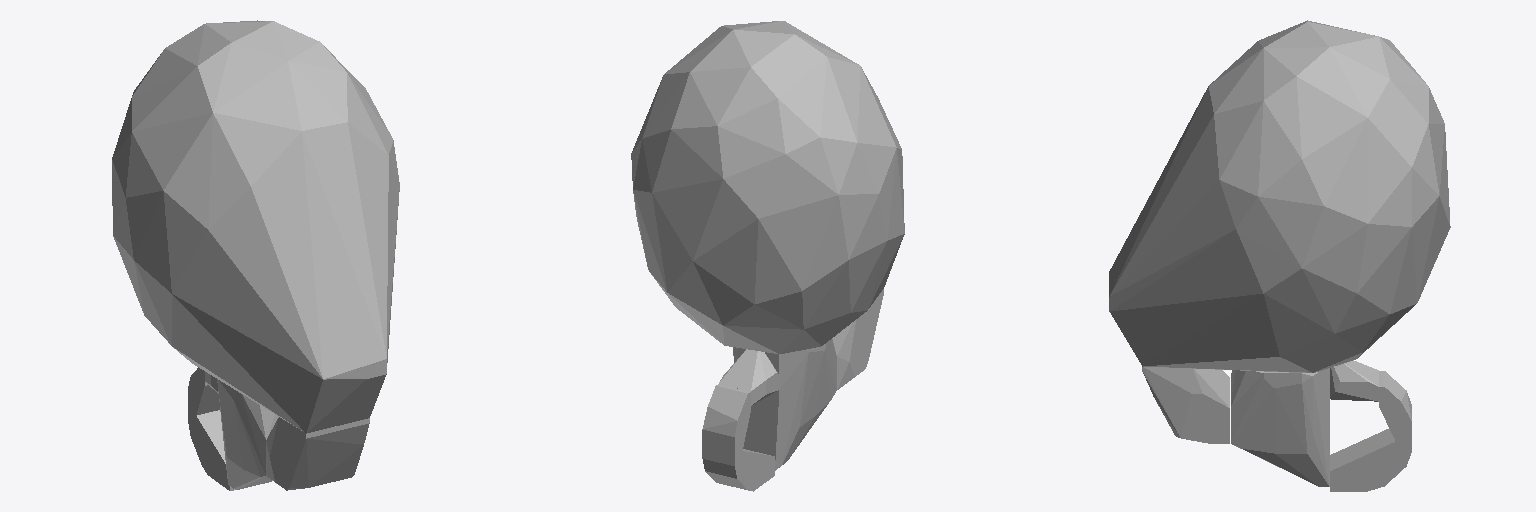
The robot description file, URDF, robot "root":
<robot name="root">
  <link name="link_2f8905ee1f60ab5aa821a9df9523f811_convex_piece_0">
    <inertial>
      <origin rpy="0 0 0" xyz="0 0 0"/>
      <mass value="3.22E-05"/>
      <inertia ixx="7.19E-09" ixy="2.61E-11" ixz="2.00E-11" iyy="6.47E-09" iyz="6.75E-10" izz="4.97E-09"/>
    </inertial>
    <visual>
      <origin rpy="0 0 0" xyz="0 0 0"/>
      <geometry>
        <mesh filename="2f8905ee1f60ab5aa821a9df9523f811_convex_piece_0.obj" scale="1.0000E+00"/>
      </geometry>
      <material name="">
        <color rgba="7.50E-01 7.50E-01 7.50E-01 1"/>
      </material>
    </visual>
    <collision>
      <origin rpy="0 0 0" xyz="0 0 0"/>
      <geometry>
        <mesh filename="2f8905ee1f60ab5aa821a9df9523f811_convex_piece_0.obj" scale="1.0000E+00"/>
      </geometry>
    </collision>
  </link>
  <link name="link_2f8905ee1f60ab5aa821a9df9523f811_convex_piece_1">
    <inertial>
      <origin rpy="0 0 0" xyz="0 0 0"/>
      <mass value="7.37E-07"/>
      <inertia ixx="3.55E-10" ixy="2.79E-12" ixz="3.84E-12" iyy="2.55E-10" iyz="1.53E-10" izz="1.12E-10"/>
    </inertial>
    <visual>
      <origin rpy="0 0 0" xyz="0 0 0"/>
      <geometry>
        <mesh filename="2f8905ee1f60ab5aa821a9df9523f811_convex_piece_1.obj" scale="1.0000E+00"/>
      </geometry>
      <material name="">
        <color rgba="7.50E-01 7.50E-01 7.50E-01 1"/>
      </material>
    </visual>
    <collision>
      <origin rpy="0 0 0" xyz="0 0 0"/>
      <geometry>
        <mesh filename="2f8905ee1f60ab5aa821a9df9523f811_convex_piece_1.obj" scale="1.0000E+00"/>
      </geometry>
    </collision>
  </link>
  <joint name="link_2f8905ee1f60ab5aa821a9df9523f811_convex_piece_1_joint" type="fixed">
    <origin rpy="0 0 0" xyz="0 0 0"/>
    <parent link="link_2f8905ee1f60ab5aa821a9df9523f811_convex_piece_0"/>
    <child link="link_2f8905ee1f60ab5aa821a9df9523f811_convex_piece_1"/>
  </joint>
  <link name="link_2f8905ee1f60ab5aa821a9df9523f811_convex_piece_2">
    <inertial>
      <origin rpy="0 0 0" xyz="0 0 0"/>
      <mass value="1.62E-06"/>
      <inertia ixx="6.86E-10" ixy="-4.93E-14" ixz="-3.10E-12" iyy="6.97E-10" iyz="-5.34E-11" izz="1.73E-11"/>
    </inertial>
    <visual>
      <origin rpy="0 0 0" xyz="0 0 0"/>
      <geometry>
        <mesh filename="2f8905ee1f60ab5aa821a9df9523f811_convex_piece_2.obj" scale="1.0000E+00"/>
      </geometry>
      <material name="">
        <color rgba="7.50E-01 7.50E-01 7.50E-01 1"/>
      </material>
    </visual>
    <collision>
      <origin rpy="0 0 0" xyz="0 0 0"/>
      <geometry>
        <mesh filename="2f8905ee1f60ab5aa821a9df9523f811_convex_piece_2.obj" scale="1.0000E+00"/>
      </geometry>
    </collision>
  </link>
  <joint name="link_2f8905ee1f60ab5aa821a9df9523f811_convex_piece_2_joint" type="fixed">
    <origin rpy="0 0 0" xyz="0 0 0"/>
    <parent link="link_2f8905ee1f60ab5aa821a9df9523f811_convex_piece_1"/>
    <child link="link_2f8905ee1f60ab5aa821a9df9523f811_convex_piece_2"/>
  </joint>
  <link name="link_2f8905ee1f60ab5aa821a9df9523f811_convex_piece_3">
    <inertial>
      <origin rpy="0 0 0" xyz="0 0 0"/>
      <mass value="2.16E-07"/>
      <inertia ixx="2.14E-10" ixy="3.11E-13" ixz="-7.27E-13" iyy="1.83E-10" iyz="-8.31E-11" izz="3.21E-11"/>
    </inertial>
    <visual>
      <origin rpy="0 0 0" xyz="0 0 0"/>
      <geometry>
        <mesh filename="2f8905ee1f60ab5aa821a9df9523f811_convex_piece_3.obj" scale="1.0000E+00"/>
      </geometry>
      <material name="">
        <color rgba="7.50E-01 7.50E-01 7.50E-01 1"/>
      </material>
    </visual>
    <collision>
      <origin rpy="0 0 0" xyz="0 0 0"/>
      <geometry>
        <mesh filename="2f8905ee1f60ab5aa821a9df9523f811_convex_piece_3.obj" scale="1.0000E+00"/>
      </geometry>
    </collision>
  </link>
  <joint name="link_2f8905ee1f60ab5aa821a9df9523f811_convex_piece_3_joint" type="fixed">
    <origin rpy="0 0 0" xyz="0 0 0"/>
    <parent link="link_2f8905ee1f60ab5aa821a9df9523f811_convex_piece_2"/>
    <child link="link_2f8905ee1f60ab5aa821a9df9523f811_convex_piece_3"/>
  </joint>
  <link name="link_2f8905ee1f60ab5aa821a9df9523f811_convex_piece_4">
    <inertial>
      <origin rpy="0 0 0" xyz="0 0 0"/>
      <mass value="1.18E-07"/>
      <inertia ixx="4.13E-11" ixy="-1.54E-13" ixz="3.60E-13" iyy="3.20E-11" iyz="-2.26E-11" izz="9.89E-12"/>
    </inertial>
    <visual>
      <origin rpy="0 0 0" xyz="0 0 0"/>
      <geometry>
        <mesh filename="2f8905ee1f60ab5aa821a9df9523f811_convex_piece_4.obj" scale="1.0000E+00"/>
      </geometry>
      <material name="">
        <color rgba="7.50E-01 7.50E-01 7.50E-01 1"/>
      </material>
    </visual>
    <collision>
      <origin rpy="0 0 0" xyz="0 0 0"/>
      <geometry>
        <mesh filename="2f8905ee1f60ab5aa821a9df9523f811_convex_piece_4.obj" scale="1.0000E+00"/>
      </geometry>
    </collision>
  </link>
  <joint name="link_2f8905ee1f60ab5aa821a9df9523f811_convex_piece_4_joint" type="fixed">
    <origin rpy="0 0 0" xyz="0 0 0"/>
    <parent link="link_2f8905ee1f60ab5aa821a9df9523f811_convex_piece_3"/>
    <child link="link_2f8905ee1f60ab5aa821a9df9523f811_convex_piece_4"/>
  </joint>
  <link name="link_2f8905ee1f60ab5aa821a9df9523f811_convex_piece_5">
    <inertial>
      <origin rpy="0 0 0" xyz="0 0 0"/>
      <mass value="9.56E-08"/>
      <inertia ixx="6.35E-11" ixy="1.59E-13" ixz="-2.19E-13" iyy="4.20E-11" iyz="-3.47E-11" izz="2.19E-11"/>
    </inertial>
    <visual>
      <origin rpy="0 0 0" xyz="0 0 0"/>
      <geometry>
        <mesh filename="2f8905ee1f60ab5aa821a9df9523f811_convex_piece_5.obj" scale="1.0000E+00"/>
      </geometry>
      <material name="">
        <color rgba="7.50E-01 7.50E-01 7.50E-01 1"/>
      </material>
    </visual>
    <collision>
      <origin rpy="0 0 0" xyz="0 0 0"/>
      <geometry>
        <mesh filename="2f8905ee1f60ab5aa821a9df9523f811_convex_piece_5.obj" scale="1.0000E+00"/>
      </geometry>
    </collision>
  </link>
  <joint name="link_2f8905ee1f60ab5aa821a9df9523f811_convex_piece_5_joint" type="fixed">
    <origin rpy="0 0 0" xyz="0 0 0"/>
    <parent link="link_2f8905ee1f60ab5aa821a9df9523f811_convex_piece_4"/>
    <child link="link_2f8905ee1f60ab5aa821a9df9523f811_convex_piece_5"/>
  </joint>
</robot>

--- Facts derived from the render (not from the file) ---
Views: 3 orthographic renders of the robot side by side, from view 1: azimuth 30°, elevation 25°; view 2: azimuth 150°, elevation 25°; view 3: azimuth 270°, elevation 25°.
Model root with 6 links and 5 joints (5 fixed), rooted at link_2f8905ee1f60ab5aa821a9df9523f811_convex_piece_0, posed all joints at 0.
Links seen in each view (by area): view 1: link_2f8905ee1f60ab5aa821a9df9523f811_convex_piece_0, link_2f8905ee1f60ab5aa821a9df9523f811_convex_piece_1, link_2f8905ee1f60ab5aa821a9df9523f811_convex_piece_2, link_2f8905ee1f60ab5aa821a9df9523f811_convex_piece_3, link_2f8905ee1f60ab5aa821a9df9523f811_convex_piece_5; view 2: link_2f8905ee1f60ab5aa821a9df9523f811_convex_piece_0, link_2f8905ee1f60ab5aa821a9df9523f811_convex_piece_2, link_2f8905ee1f60ab5aa821a9df9523f811_convex_piece_5, link_2f8905ee1f60ab5aa821a9df9523f811_convex_piece_1, link_2f8905ee1f60ab5aa821a9df9523f811_convex_piece_3, link_2f8905ee1f60ab5aa821a9df9523f811_convex_piece_4; view 3: link_2f8905ee1f60ab5aa821a9df9523f811_convex_piece_0, link_2f8905ee1f60ab5aa821a9df9523f811_convex_piece_2, link_2f8905ee1f60ab5aa821a9df9523f811_convex_piece_1, link_2f8905ee1f60ab5aa821a9df9523f811_convex_piece_3, link_2f8905ee1f60ab5aa821a9df9523f811_convex_piece_4, link_2f8905ee1f60ab5aa821a9df9523f811_convex_piece_5.
Link boxes in pixels (x1,y1,x2,y2): link_2f8905ee1f60ab5aa821a9df9523f811_convex_piece_0: (112,20,399,433); link_2f8905ee1f60ab5aa821a9df9523f811_convex_piece_1: (266,417,369,490); link_2f8905ee1f60ab5aa821a9df9523f811_convex_piece_2: (217,379,278,489); link_2f8905ee1f60ab5aa821a9df9523f811_convex_piece_3: (188,410,233,490); link_2f8905ee1f60ab5aa821a9df9523f811_convex_piece_5: (188,367,219,415); link_2f8905ee1f60ab5aa821a9df9523f811_convex_piece_0: (631,21,904,353); link_2f8905ee1f60ab5aa821a9df9523f811_convex_piece_2: (733,339,836,470); link_2f8905ee1f60ab5aa821a9df9523f811_convex_piece_5: (702,384,750,456); link_2f8905ee1f60ab5aa821a9df9523f811_convex_piece_1: (832,289,883,389); link_2f8905ee1f60ab5aa821a9df9523f811_convex_piece_3: (702,449,774,491); link_2f8905ee1f60ab5aa821a9df9523f811_convex_piece_4: (719,349,778,405); link_2f8905ee1f60ab5aa821a9df9523f811_convex_piece_0: (1109,20,1450,372); link_2f8905ee1f60ab5aa821a9df9523f811_convex_piece_2: (1231,368,1329,486); link_2f8905ee1f60ab5aa821a9df9523f811_convex_piece_1: (1142,367,1229,443); link_2f8905ee1f60ab5aa821a9df9523f811_convex_piece_3: (1330,429,1411,491); link_2f8905ee1f60ab5aa821a9df9523f811_convex_piece_4: (1330,360,1378,401); link_2f8905ee1f60ab5aa821a9df9523f811_convex_piece_5: (1379,371,1411,441).
Bounding box of the posed robot: 0.0375 × 0.0456 × 0.0662 m (x, y, z).
Meshes: 6 distinct files referenced, 6 mesh visuals loaded (6 OBJ).